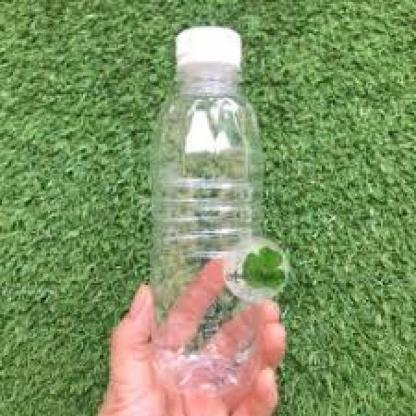Plastic Bottle: (148, 25, 268, 335)
